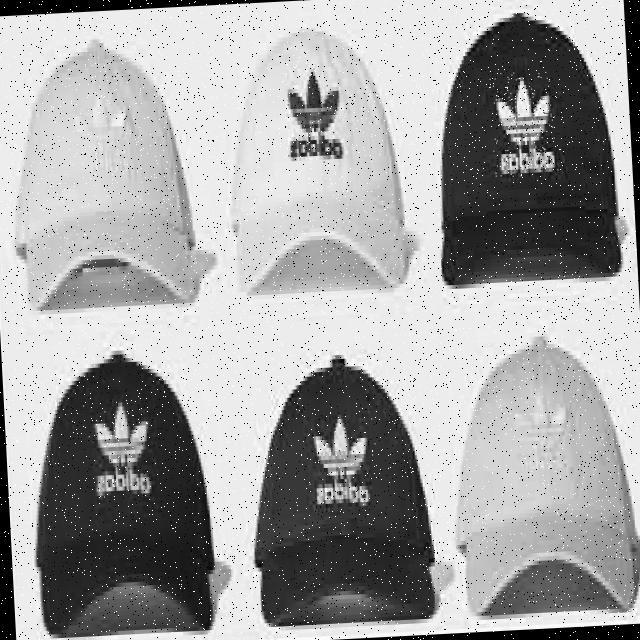Adidas: (83, 398, 157, 504), (303, 413, 381, 512), (489, 71, 559, 179), (280, 67, 351, 166)
